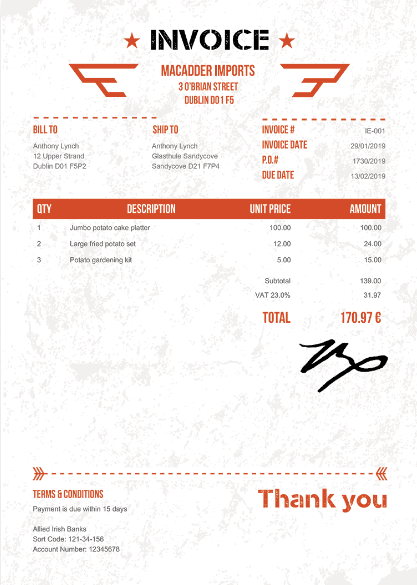Table: (16, 182, 397, 336)
